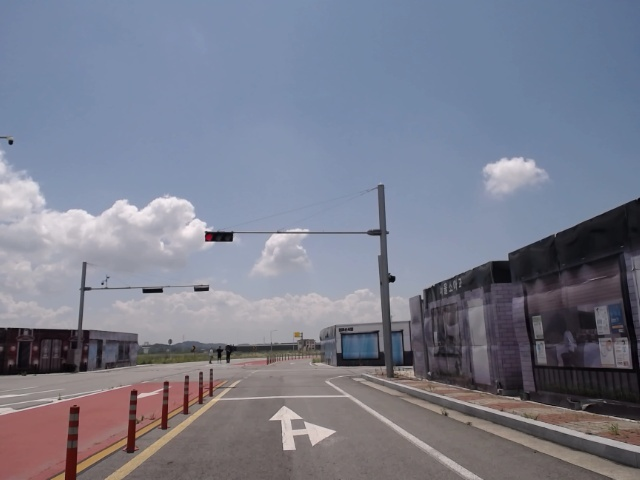red_3: (203, 232, 234, 243)
